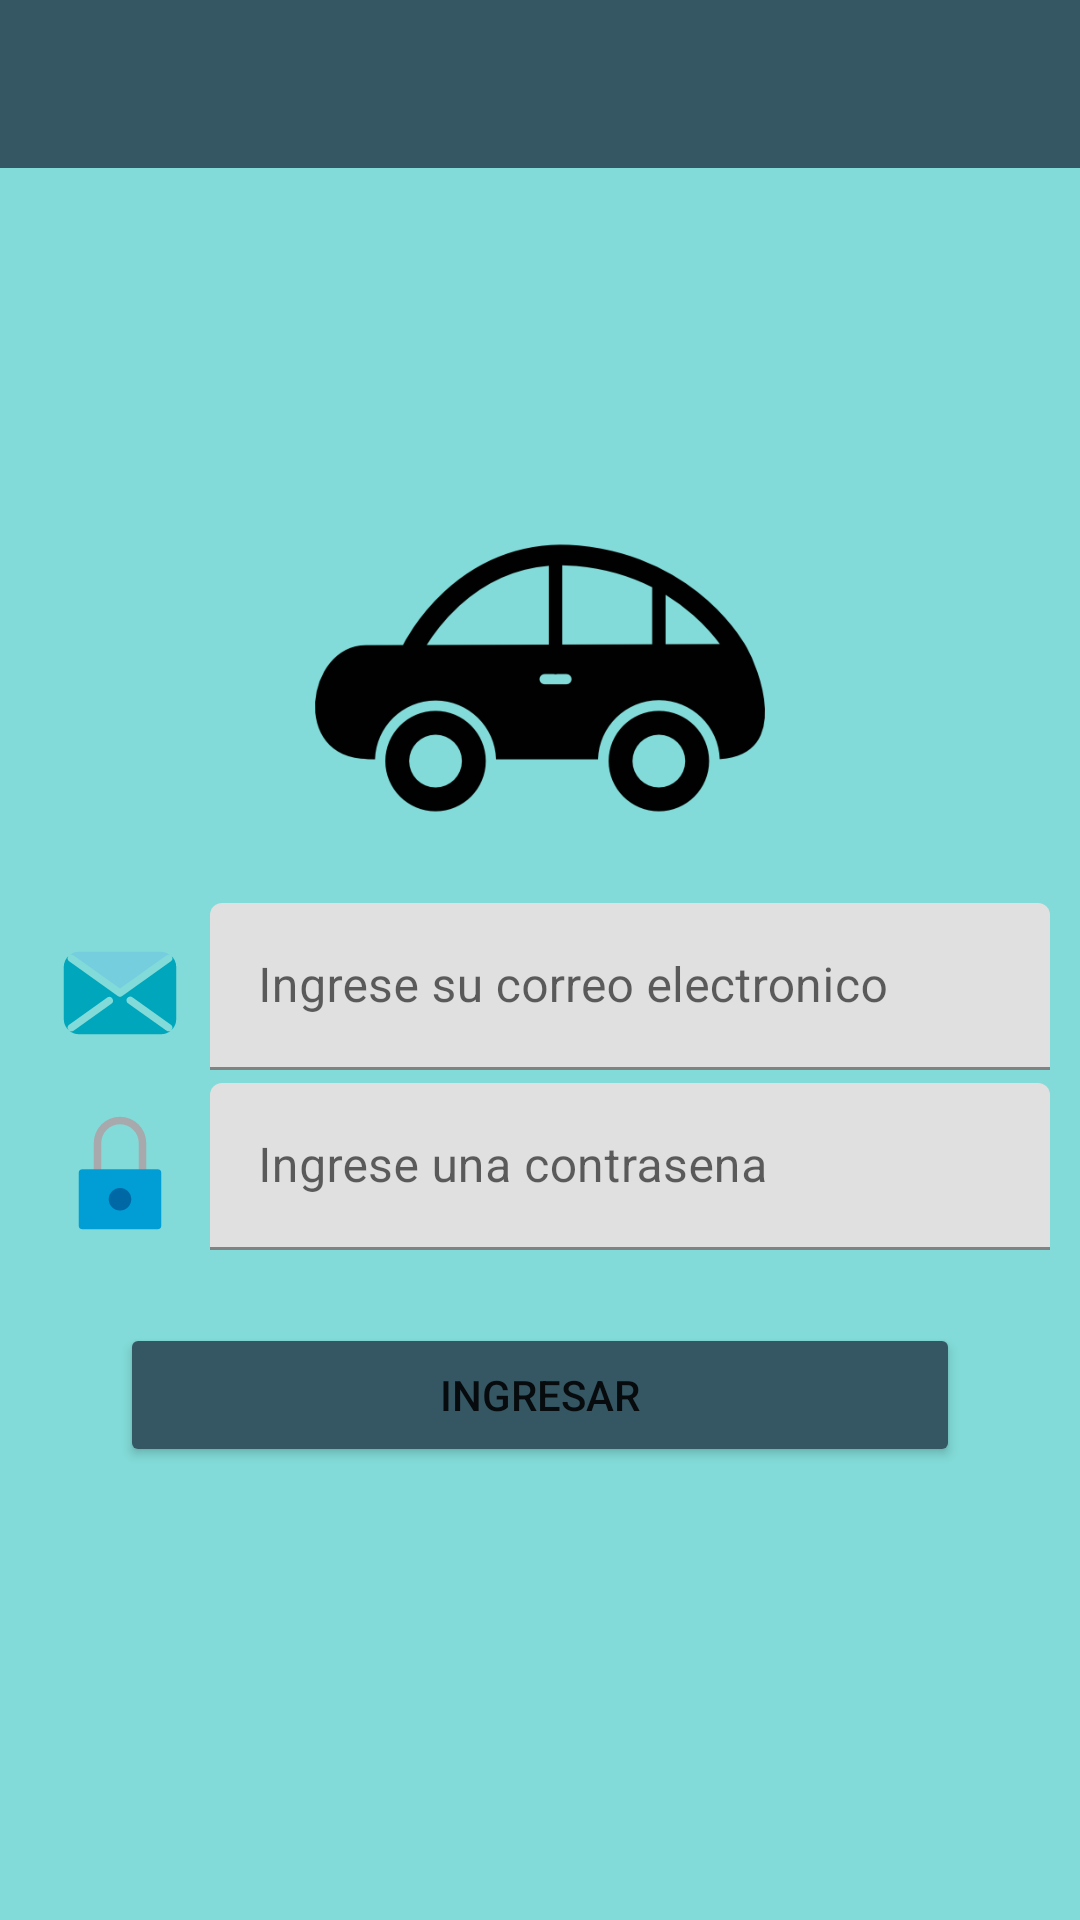

Screen size 1080×1920. Icon name, then its center in pixels as (x=x, y=y):
email mail web: (x=120, y=996)
key scurity web: (x=120, y=1173)
